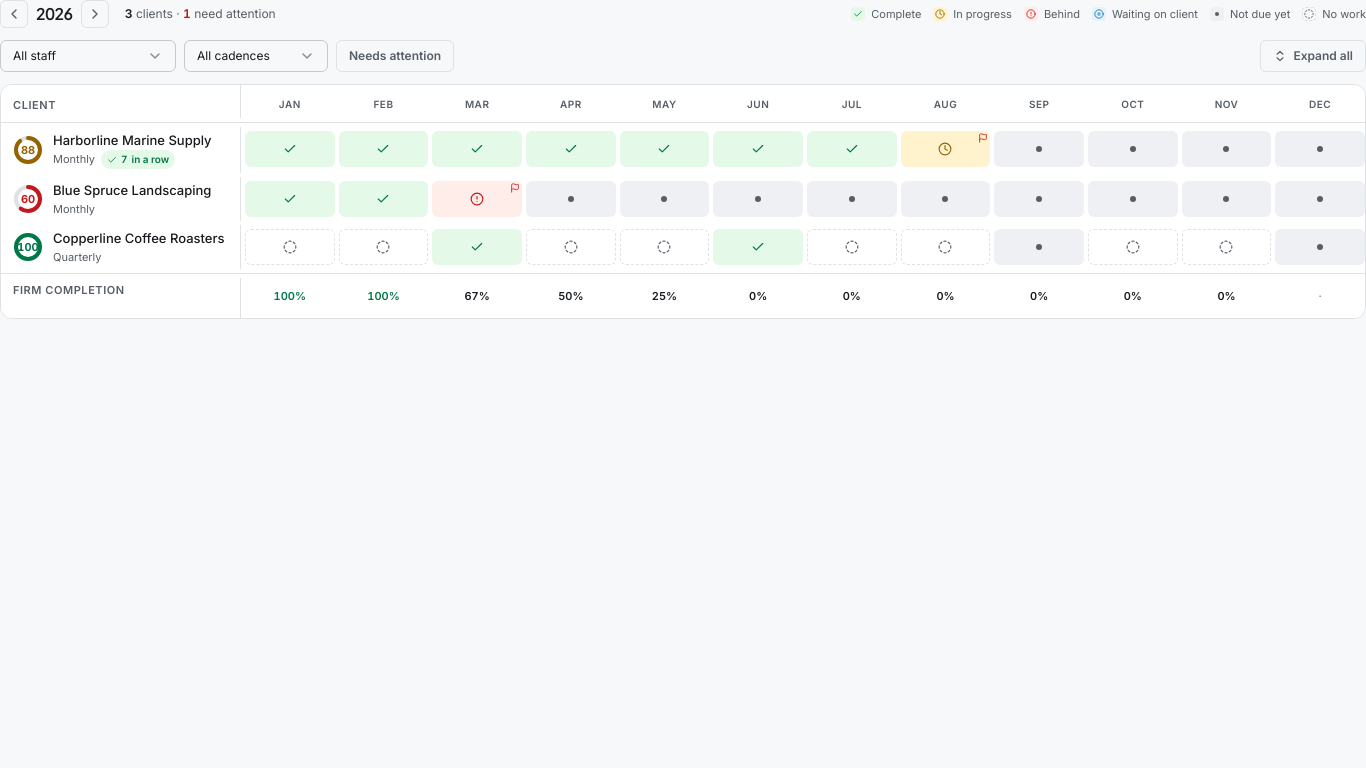
Test: ProgressionBoard - the firm heatmap › opens a detail overlay popover on click instead of navigating away (D12/D9)
Click the button named "Blue Spruce Landscaping, Mar 2026: Behind".
click(477, 199)  # box left=432, top=181, right=522, bottom=217
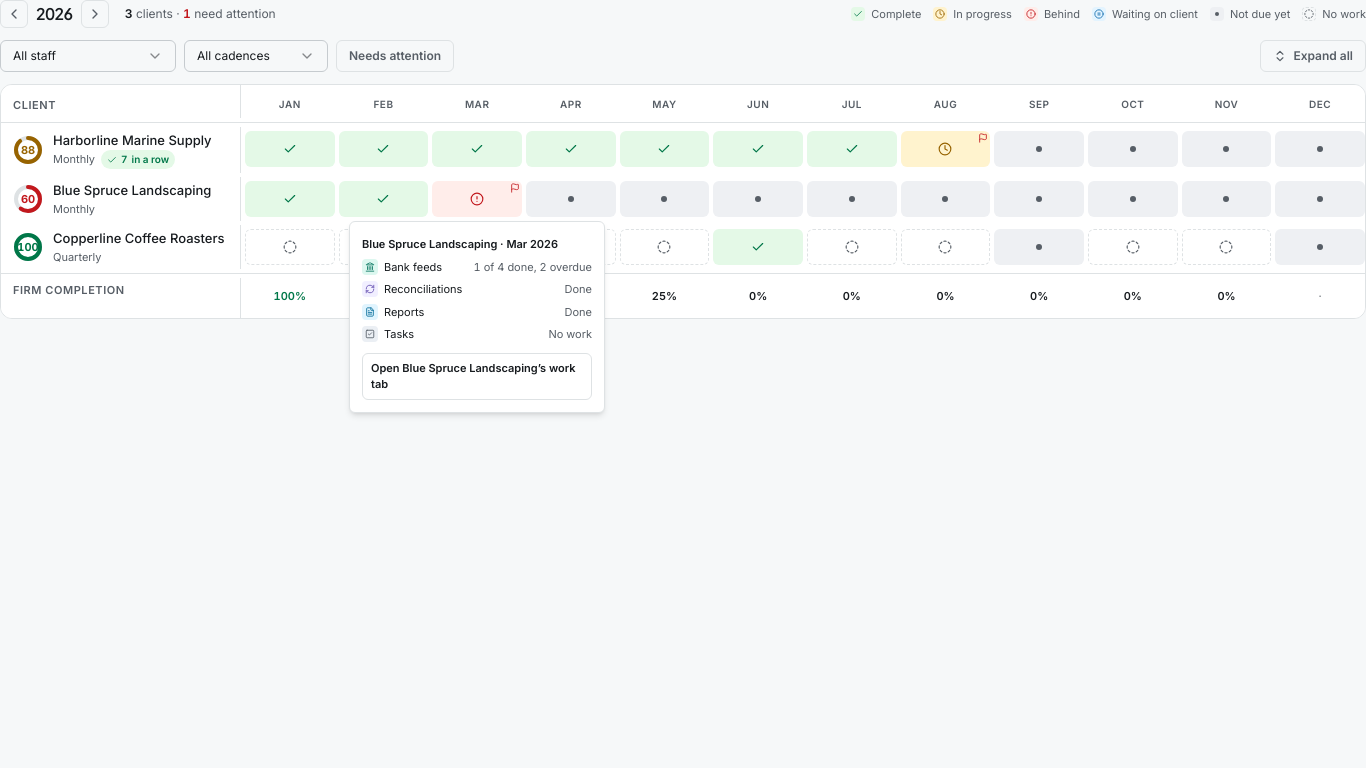
Check: the text "Bank feeds" is shown, box left=384, top=258, right=442, bottom=275
Check: the text "1 of 4 done, 2 overdue" is shown, box left=462, top=258, right=592, bottom=275
Check: the text "Reconciliations" is shown, box left=384, top=281, right=462, bottom=298
